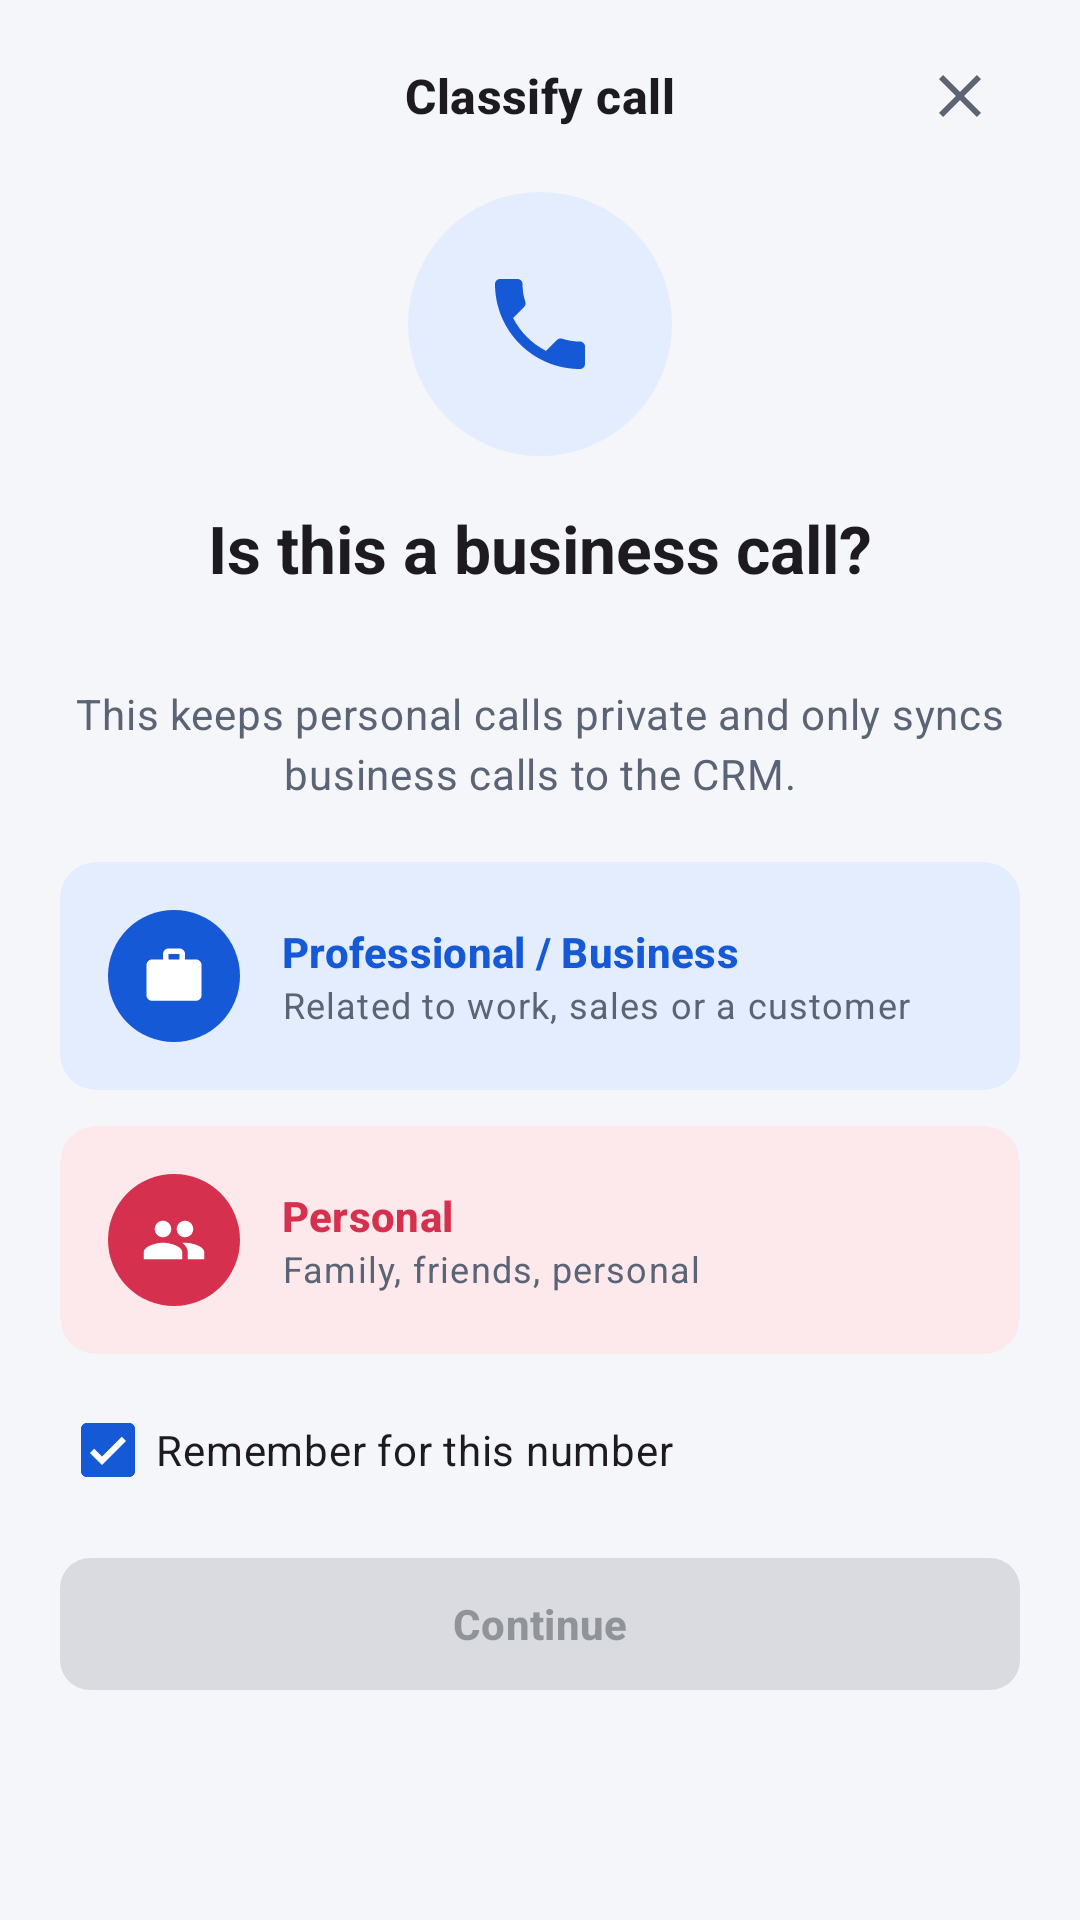

Icon bounding boxes for this 1080 x 1920 phone screenshot, format bbox=[x1, y1, x2, y2]:
Close: bbox=[939, 75, 981, 117]
people: bbox=[108, 1174, 240, 1306]
phone: bbox=[408, 192, 672, 456]
